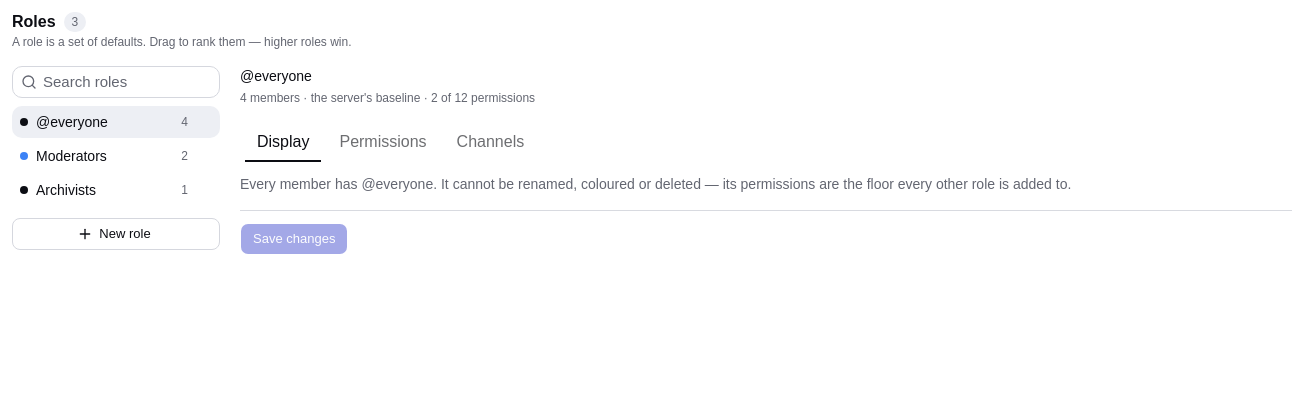
RolesPage › narrows the list by name and says so when nothing matches
Expected: the list named "Roles" is shown, [12, 106, 220, 206]
In the search field named "Search roles by name": (128, 82) [41, 67, 215, 97], type "arch"
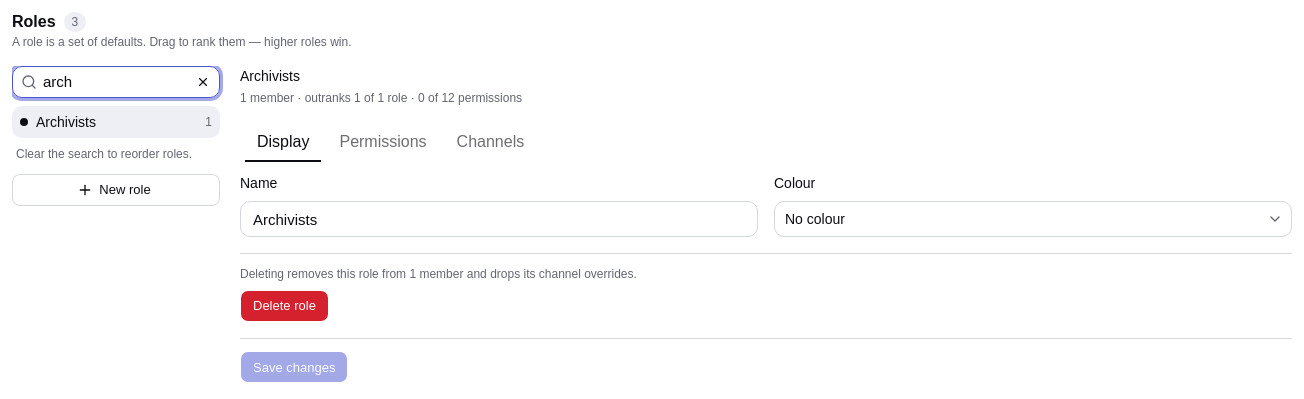
Expected: the number of list items is 1, [12, 106, 220, 138]
Clear the search field named "Search roles by name": (114, 82) [41, 67, 187, 97]
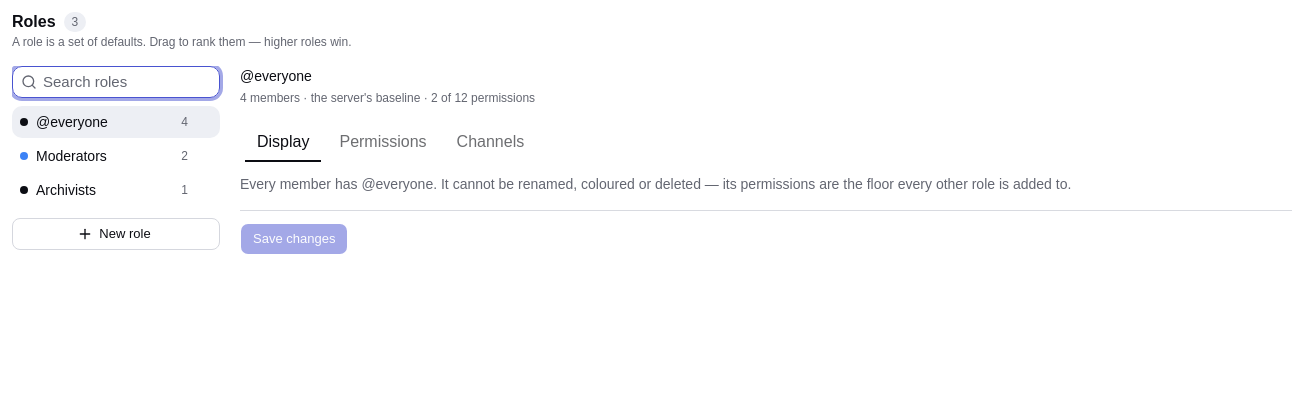
In the search field named "Search roles by name": (128, 82) [41, 67, 215, 97], type "zzz"
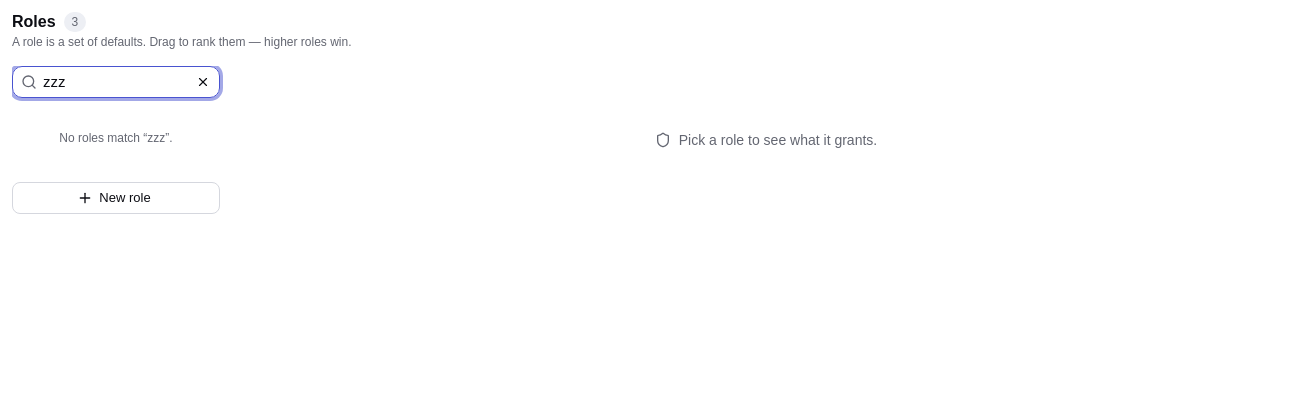
Expected: the text "No roles match “zzz”." is shown, [59, 131, 173, 145]
